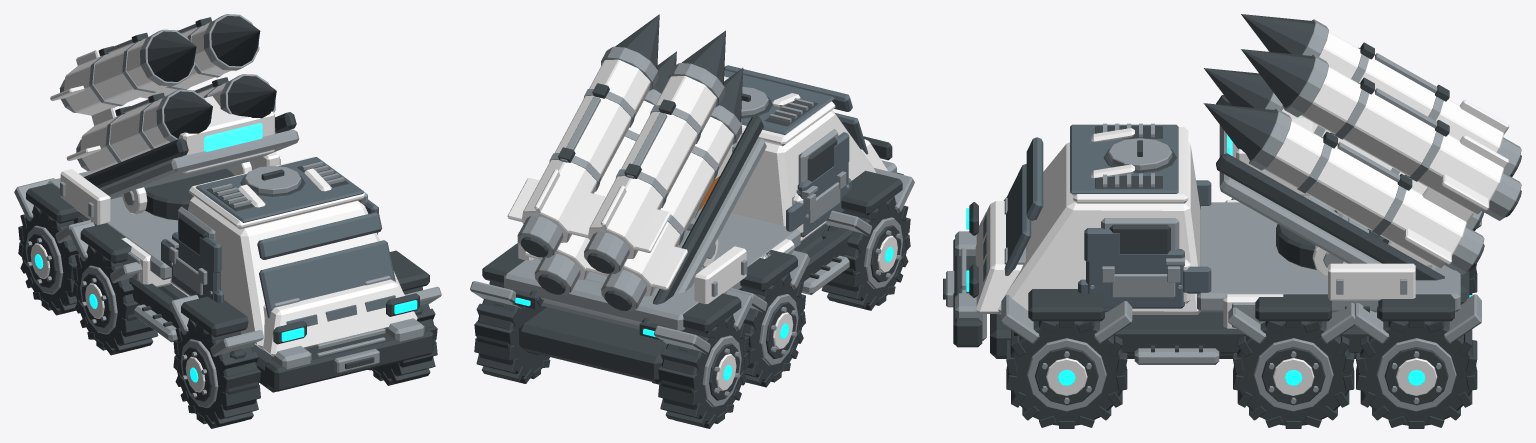
Rendered from shkval-guidance-3.glb.
3 renders of one model, left to right at view 1: azimuth 30°, elevation 25°; view 2: azimuth 150°, elevation 25°; view 3: azimuth 270°, elevation 25°, orthographic. The views are drawn at different scales.
Visible parts, largest first — view 1: modelRoot:structure, modelRoot:team-primary, modelRoot:neutral-metal, launcherPitch:structure, launcherPitch:team-primary, launcherPitch:neutral-metal, guidance-cab-front-gray-skin, guidance-cab-metal-roof, guidance-cab-windshield-visor, armored-radar-module, turretYaw:structure, guidance-cab-side-gray-skin (+4 smaller); view 2: modelRoot:structure, launcherPitch:team-primary, modelRoot:neutral-metal, launcherPitch:neutral-metal, modelRoot:team-primary, launcherPitch:structure, guidance-cab-metal-roof, guidance-cab-side-gray-skin, guidance-cab-windshield-visor, modelRoot:system-emissive, guidance-cab-front-gray-skin, guidance-cab-side-rear-panel; view 3: modelRoot:structure, modelRoot:neutral-metal, launcherPitch:team-primary, modelRoot:team-primary, launcherPitch:structure, launcherPitch:neutral-metal, guidance-cab-metal-roof, guidance-cab-side-gray-skin.001, guidance-cab-front-gray-skin, guidance-cab-windshield-visor, turretYaw:structure, guidance-cab-side-window-cheek.001 (+3 smaller).
Boxes of the visible parts, x1=… form: modelRoot:structure: x1=18, y1=161, x2=437, y2=428; modelRoot:team-primary: x1=30, y1=152, x2=417, y2=392; modelRoot:neutral-metal: x1=14, y1=159, x2=441, y2=407; launcherPitch:structure: x1=84, y1=16, x2=296, y2=188; launcherPitch:team-primary: x1=50, y1=22, x2=231, y2=172; launcherPitch:neutral-metal: x1=59, y1=14, x2=299, y2=199; guidance-cab-front-gray-skin: x1=259, y1=240, x2=395, y2=318; guidance-cab-metal-roof: x1=195, y1=157, x2=364, y2=222; guidance-cab-windshield-visor: x1=257, y1=212, x2=382, y2=259; armored-radar-module: x1=178, y1=96, x2=274, y2=173; turretYaw:structure: x1=145, y1=168, x2=234, y2=220; guidance-cab-side-gray-skin: x1=172, y1=232, x2=220, y2=300; modelRoot:structure: x1=474, y1=93, x2=910, y2=428; launcherPitch:team-primary: x1=507, y1=59, x2=734, y2=296; modelRoot:neutral-metal: x1=470, y1=87, x2=914, y2=407; launcherPitch:neutral-metal: x1=517, y1=46, x2=766, y2=329; modelRoot:team-primary: x1=518, y1=101, x2=897, y2=390; launcherPitch:structure: x1=521, y1=14, x2=763, y2=329; guidance-cab-metal-roof: x1=724, y1=70, x2=834, y2=134; guidance-cab-side-gray-skin: x1=797, y1=156, x2=848, y2=237; guidance-cab-windshield-visor: x1=724, y1=65, x2=852, y2=111; modelRoot:system-emissive: x1=515, y1=247, x2=893, y2=380; guidance-cab-front-gray-skin: x1=835, y1=113, x2=868, y2=154; guidance-cab-side-rear-panel: x1=786, y1=202, x2=804, y2=231; modelRoot:structure: x1=943, y1=126, x2=1477, y2=428; modelRoot:neutral-metal: x1=946, y1=123, x2=1481, y2=411; launcherPitch:team-primary: x1=1264, y1=32, x2=1509, y2=268; modelRoot:team-primary: x1=975, y1=127, x2=1437, y2=395; launcherPitch:structure: x1=1203, y1=14, x2=1521, y2=294; launcherPitch:neutral-metal: x1=1219, y1=19, x2=1521, y2=274; guidance-cab-metal-roof: x1=1070, y1=124, x2=1178, y2=194; guidance-cab-side-gray-skin.001: x1=1086, y1=249, x2=1184, y2=308; guidance-cab-front-gray-skin: x1=1004, y1=164, x2=1031, y2=275; guidance-cab-windshield-visor: x1=1026, y1=137, x2=1043, y2=220; turretYaw:structure: x1=1276, y1=224, x2=1389, y2=269; guidance-cab-side-window-cheek.001: x1=1084, y1=228, x2=1119, y2=261.
Size of the model in its own units: 1.83 by 2.35 by 3.62.
